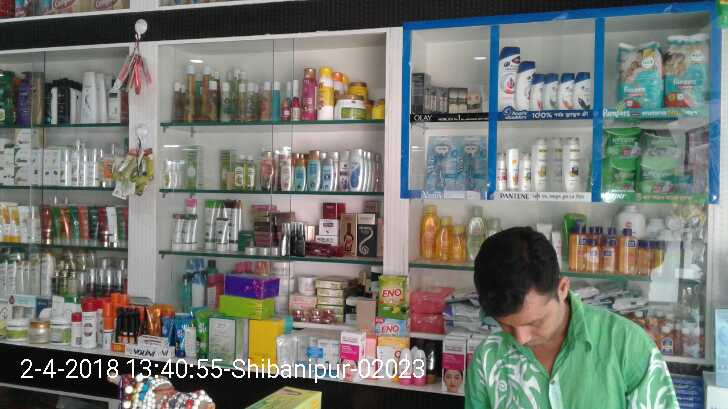venus: (425, 134, 456, 189), (458, 135, 485, 190)
